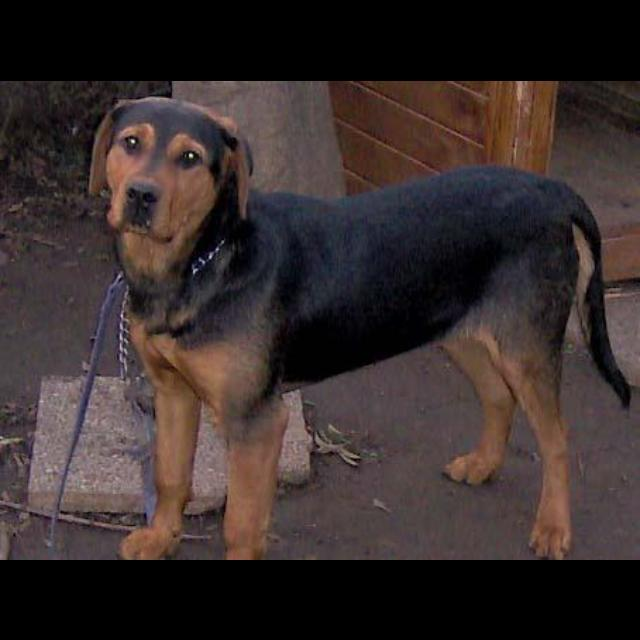rottweiler: (88, 96, 633, 559)
